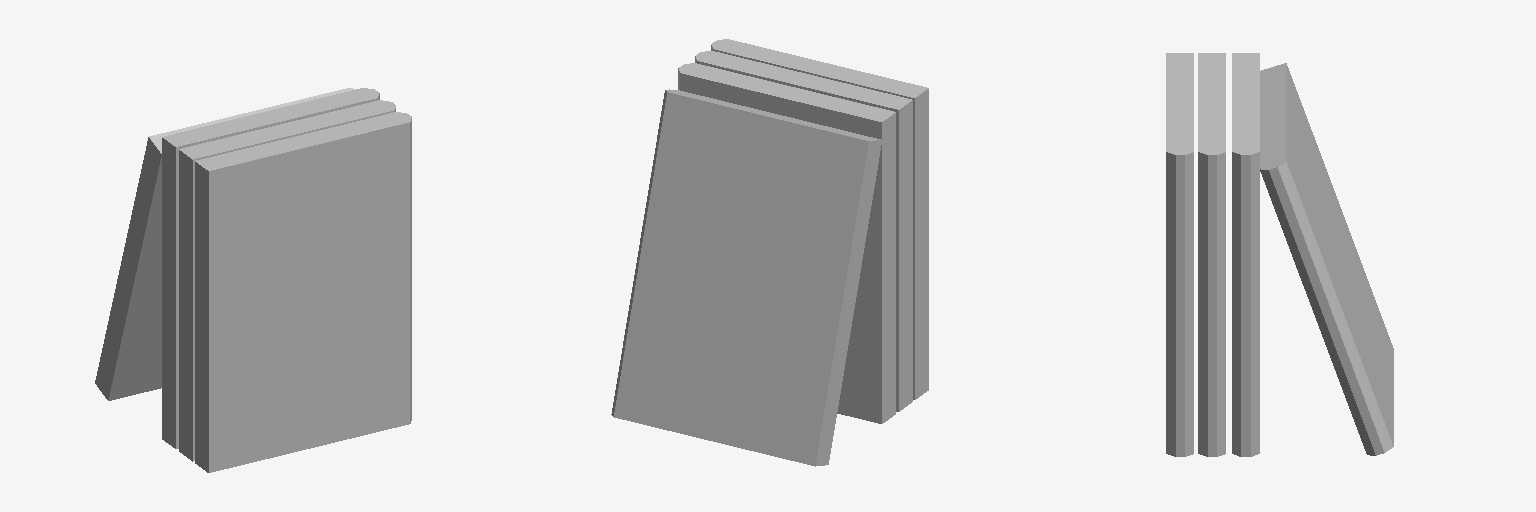
Rendered from 1282_DVDs.obj.
The picture shows the model from 3 angles: view 1: azimuth 30°, elevation 25°; view 2: azimuth 150°, elevation 25°; view 3: azimuth 270°, elevation 25°; orthographic projection.
Parts seen in each view (by area): view 1: DVDs; view 2: DVDs; view 3: DVDs.
Boxes of the visible parts, x1=… form: DVDs: x1=95, y1=88, x2=411, y2=472; DVDs: x1=611, y1=39, x2=928, y2=466; DVDs: x1=1166, y1=53, x2=1393, y2=456.
Bounding box in the file's own units: 51.26 × 71.3 × 48.45.